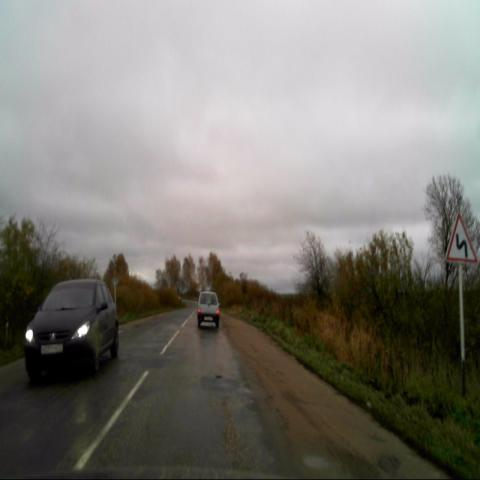1_12_2: (445, 211, 479, 264)
